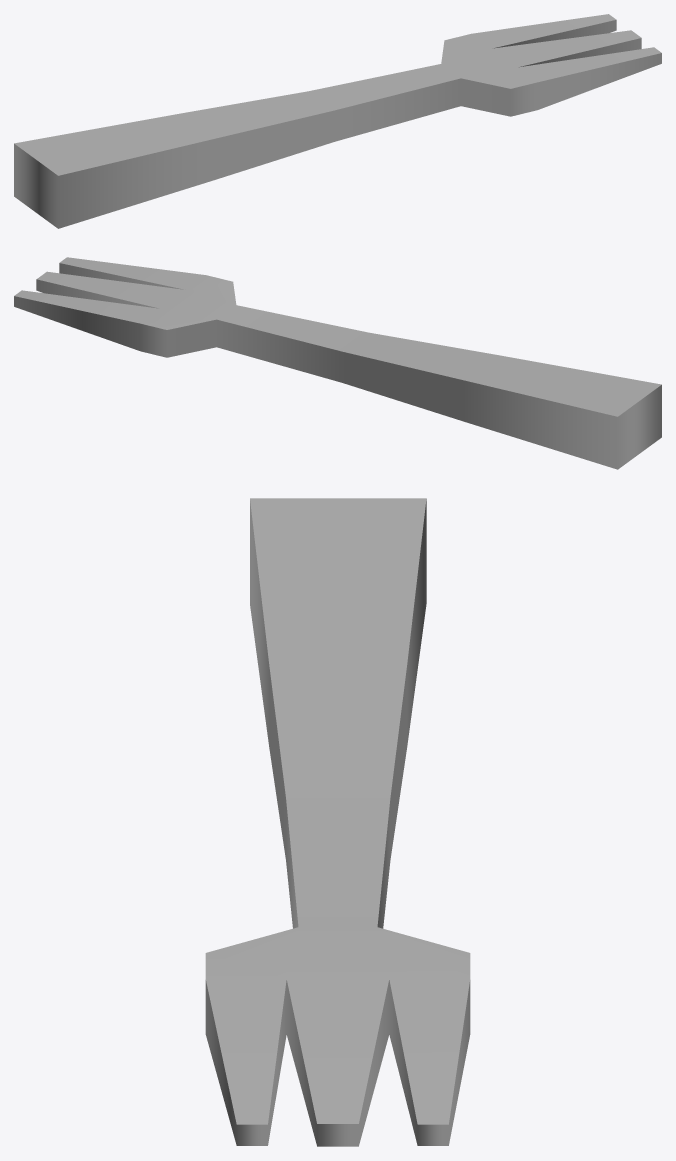
The model's file is Dest_Hall_Table_Fork.FBX.
3 renders of one model, top to bottom at view 1: azimuth 30°, elevation 25°; view 2: azimuth 150°, elevation 25°; view 3: azimuth 270°, elevation 25°, orthographic. The views are drawn at different scales.
Parts seen in each view (by area): view 1: Box007; view 2: Box007; view 3: Box007.
Part boxes in pixels (x1,y1,x2,y2): Box007: (14,14,661,228); Box007: (14,257,661,469); Box007: (205,498,470,1146).
Size of the model in its own units: 6.53 by 0.5518 by 1.25.
